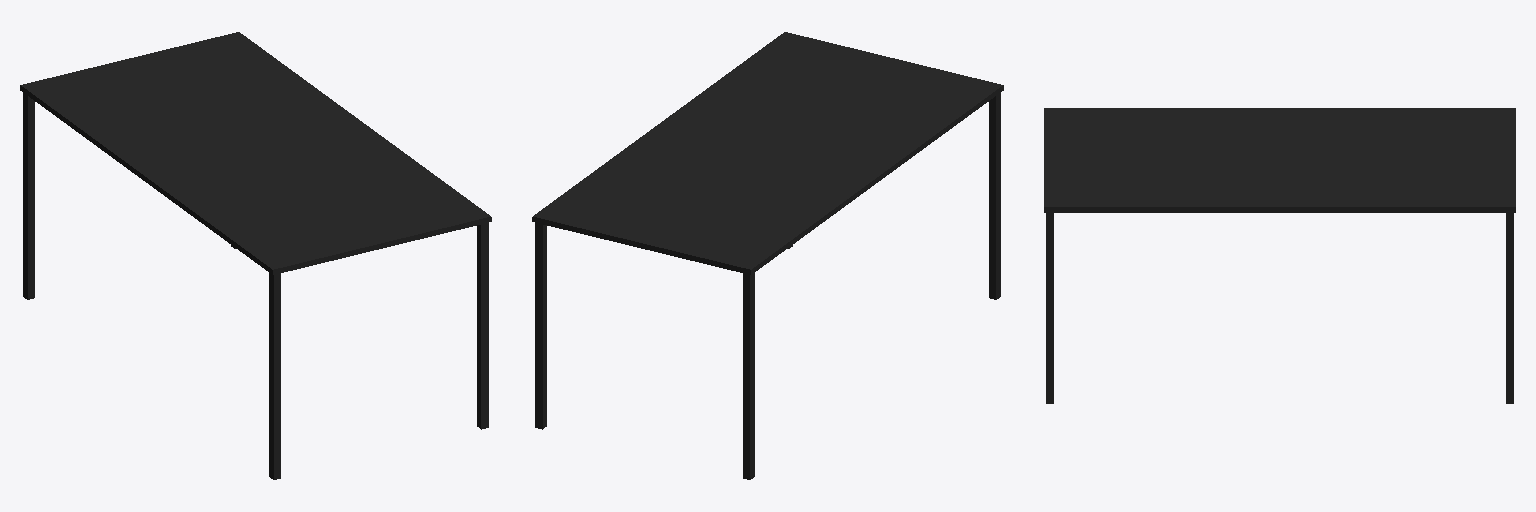
robot.urdf — chemlab_table:
<?xml version="1.0"?>

<robot name="chemlab_table">

 <link name="chemlab_table_frame">
  <visual>
   <geometry>
    <!--
    <mesh>
      <uri>model://chemlab_table/meshes/chemlab_table.dae</uri>
    </mesh> 
    -->
    <mesh filename="package://kdl_training/meshes/chemlab_table/chemlab_table.dae"/>
   </geometry>
  </visual> 
 </link>

</robot>

--- Render facts (derived) ---
3 views of the same robot in one strip: view 1: azimuth 30°, elevation 25°; view 2: azimuth 150°, elevation 25°; view 3: azimuth 270°, elevation 25° (orthographic).
Robot: chemlab_table — 1 links, 0 joints (none); root link chemlab_table_frame; default pose: every joint at zero.
Links seen in each view (by area): view 1: chemlab_table_frame; view 2: chemlab_table_frame; view 3: chemlab_table_frame.
Link boxes in pixels (<box>): chemlab_table_frame: <box>20,32,491,479</box>; chemlab_table_frame: <box>532,32,1003,479</box>; chemlab_table_frame: <box>1044,108,1515,403</box>.
Size in the robot's own frame: 0.8 by 1.6 by 0.74 metres.
Meshes: 1 distinct files referenced, 1 mesh visuals loaded (1 Collada DAE).